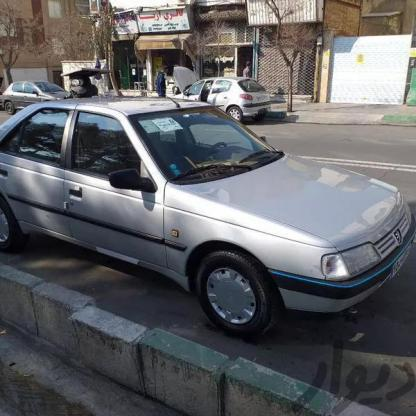Car: (0, 93, 404, 334), (173, 74, 267, 124), (0, 82, 80, 108)
